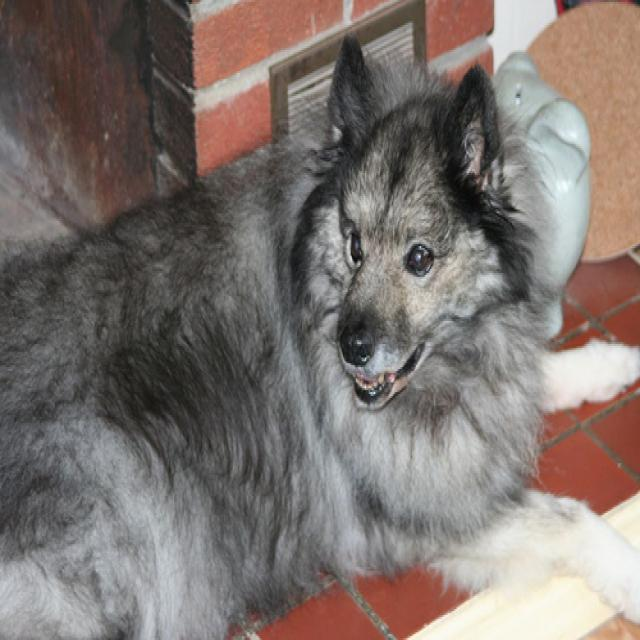dog-keeshond: (1, 21, 637, 636)
